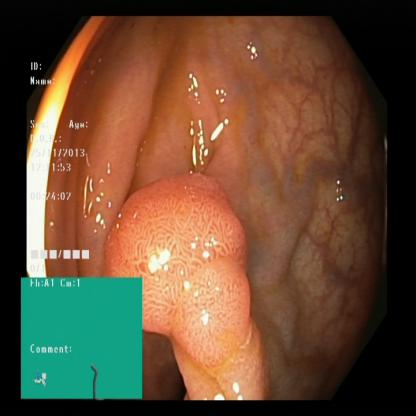Labels: (28, 56, 99, 278), (21, 279, 143, 402)
Polyps: (138, 192, 253, 354)
